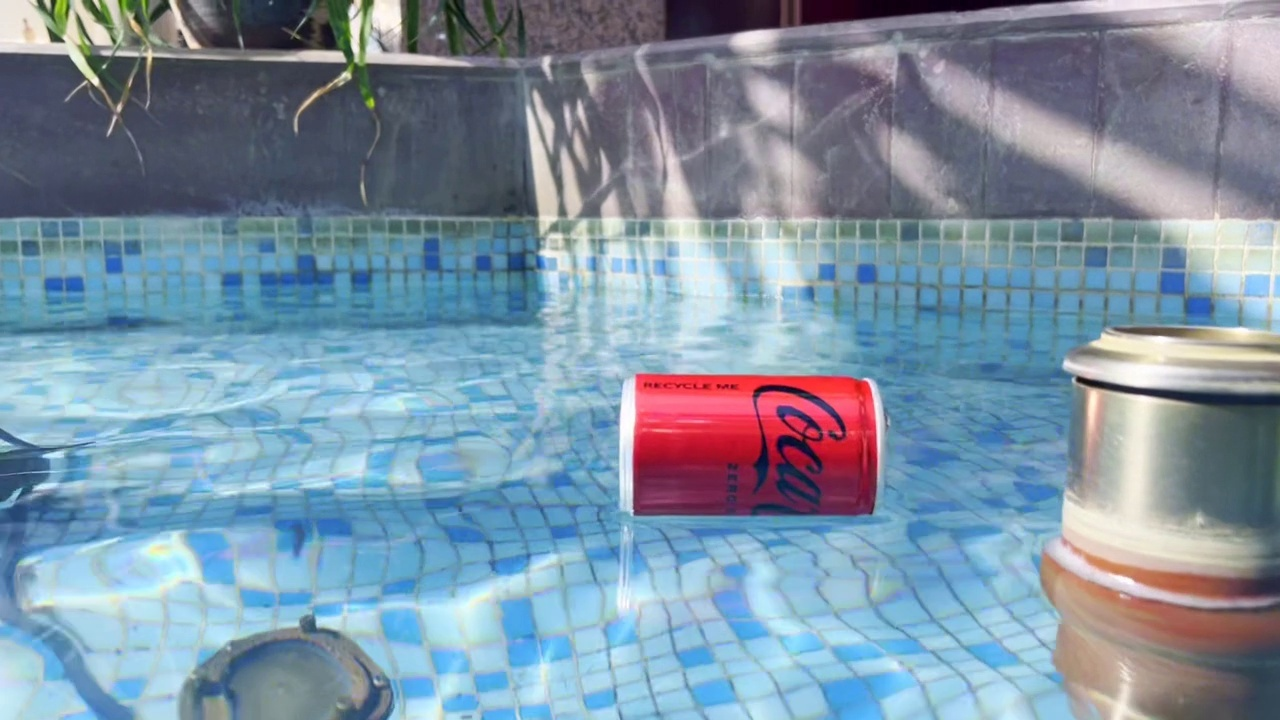debris: (615, 354, 891, 525)
